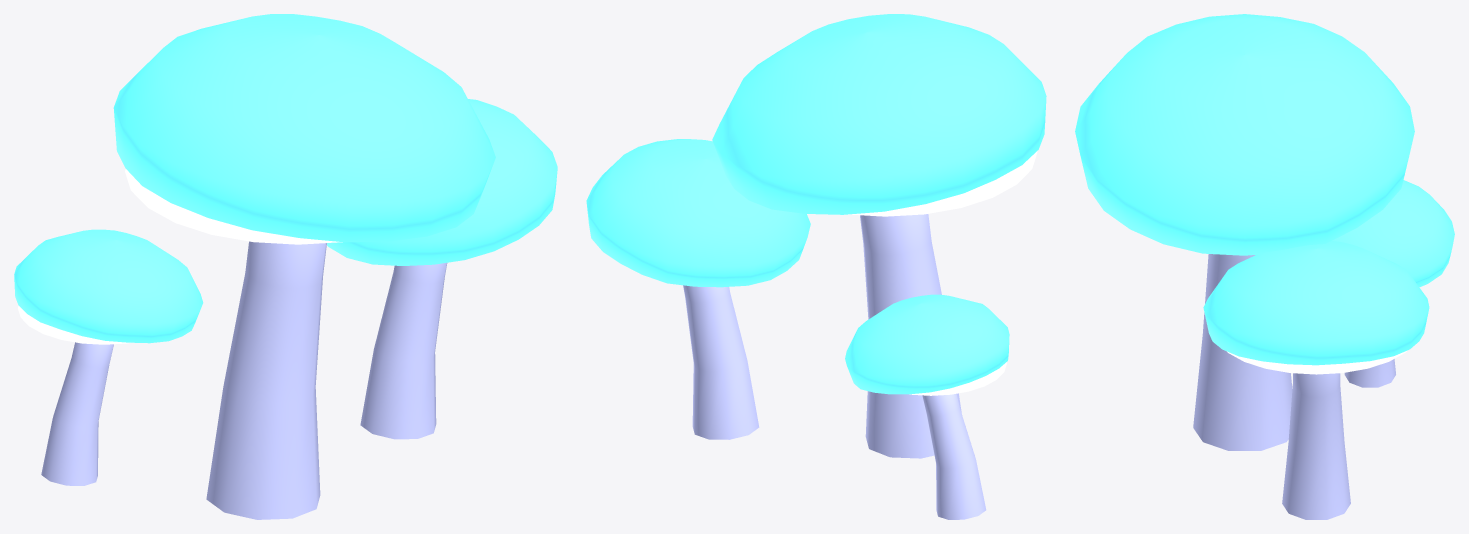
File: mushroom_cluster_cyan.glb
3 renders of one model, left to right at view 1: azimuth 30°, elevation 25°; view 2: azimuth 150°, elevation 25°; view 3: azimuth 270°, elevation 25°, orthographic. The views are drawn at different scales.
Parts seen in each view (by area): view 1: MushroomClusterCyan; view 2: MushroomClusterCyan; view 3: MushroomClusterCyan.
Part boxes in pixels (x1,y1,x2,y2): MushroomClusterCyan: [14, 14, 557, 519]; MushroomClusterCyan: [586, 14, 1046, 519]; MushroomClusterCyan: [1075, 14, 1454, 519].
Size of the model in its own units: 0.2748 by 0.2465 by 0.2118.
